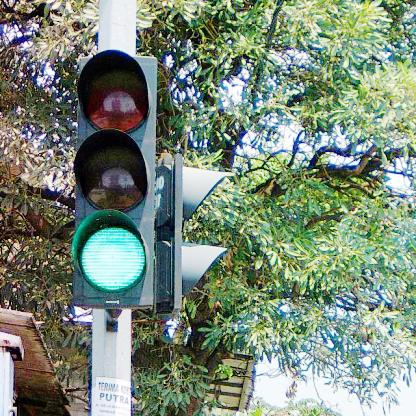Traffic Light -Green-: (78, 55, 156, 308)
